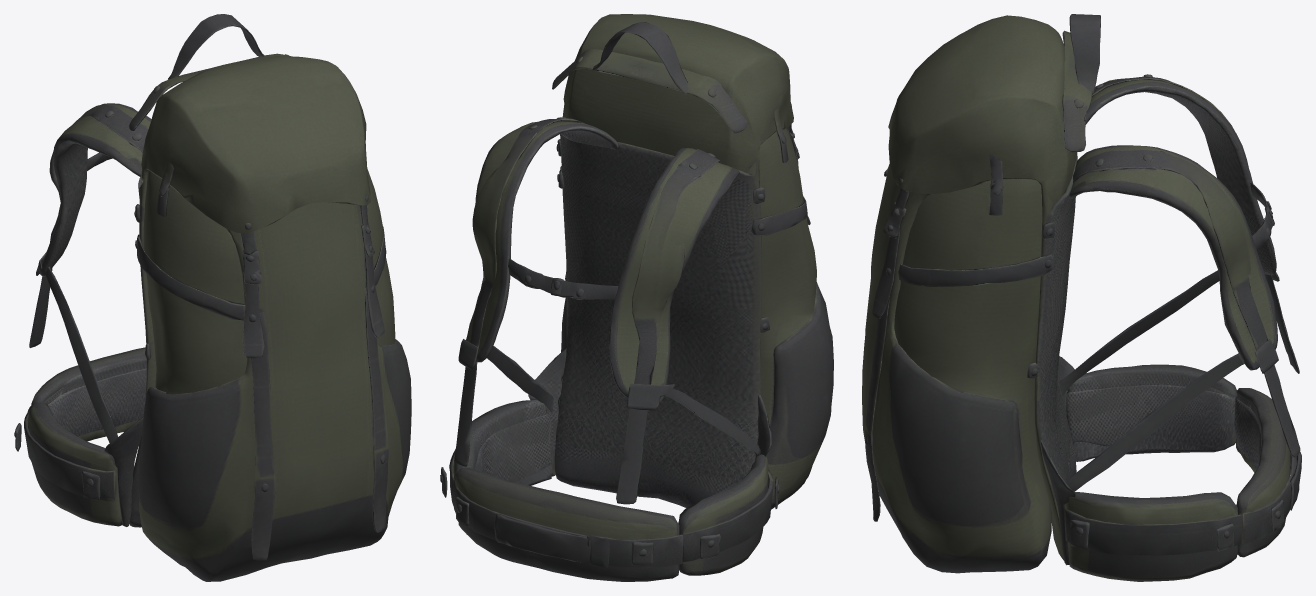
File: mountain.glb
3 renders of one model, left to right at view 1: azimuth 30°, elevation 25°; view 2: azimuth 150°, elevation 25°; view 3: azimuth 270°, elevation 25°, orthographic. The views are drawn at different scales.
Parts seen in each view (by area): view 1: Mesh_0; view 2: Mesh_0; view 3: Mesh_0.
Boxes of the visible parts, x1,y1,x2,y2 form: Mesh_0: (14,14,411,581); Mesh_0: (440,14,833,581); Mesh_0: (862,14,1301,581).
Bounding box in the file's own units: 0.4006 × 0.65 × 0.5039.
Materials: 1 (1 with a texture image).
